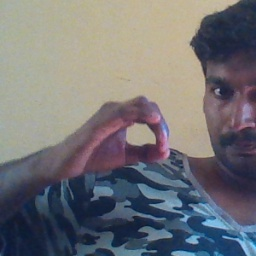O: (48, 92, 178, 182)
